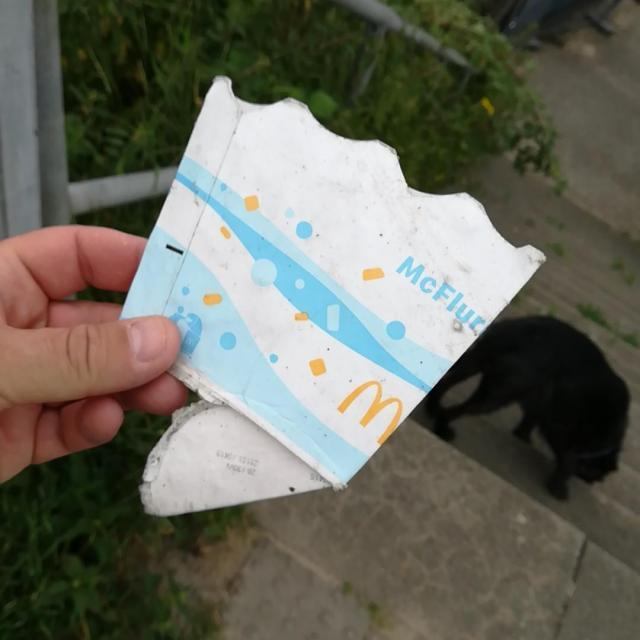Paper: (112, 72, 548, 524)
